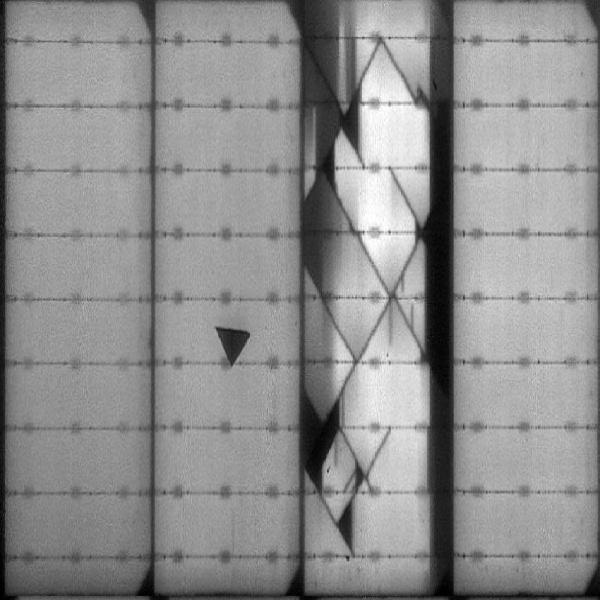black_border: (425, 402, 451, 566)
broken: (303, 4, 452, 399), (303, 399, 396, 558), (216, 322, 252, 369)
